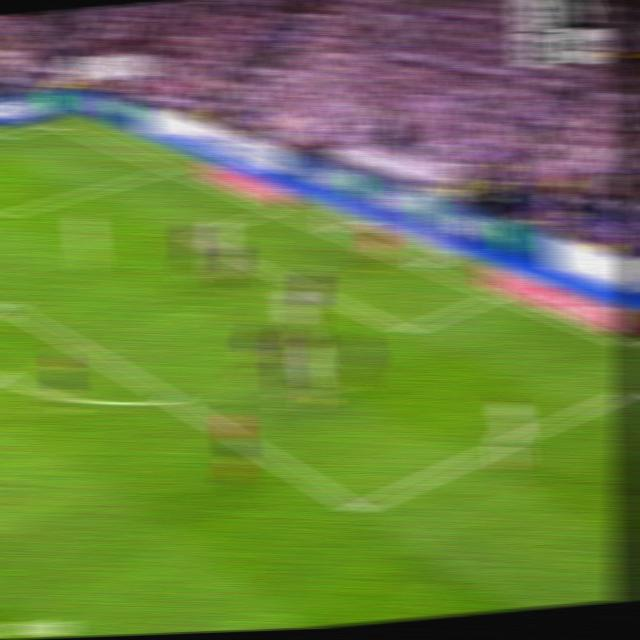bigarea_bottom_inner: (342, 492, 373, 526)
bigarea_top_outter: (156, 159, 179, 176)
bottom_arc_area_intersection: (156, 383, 185, 414)
corner: (46, 117, 71, 131)
smallarea_bottom_inner: (393, 319, 418, 342)
top_arc_area_intersection: (0, 296, 23, 318)
